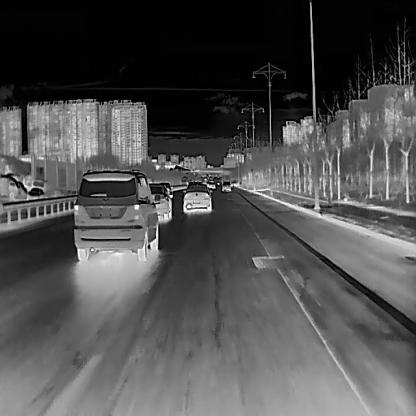car: (72, 168, 158, 261), (182, 181, 212, 213), (148, 182, 172, 222), (26, 186, 44, 198), (220, 180, 231, 192)
